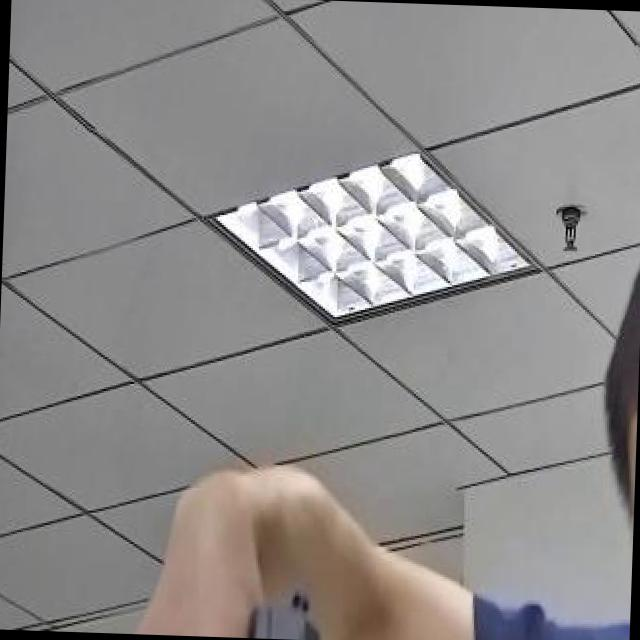Guns: (169, 531, 392, 640)
